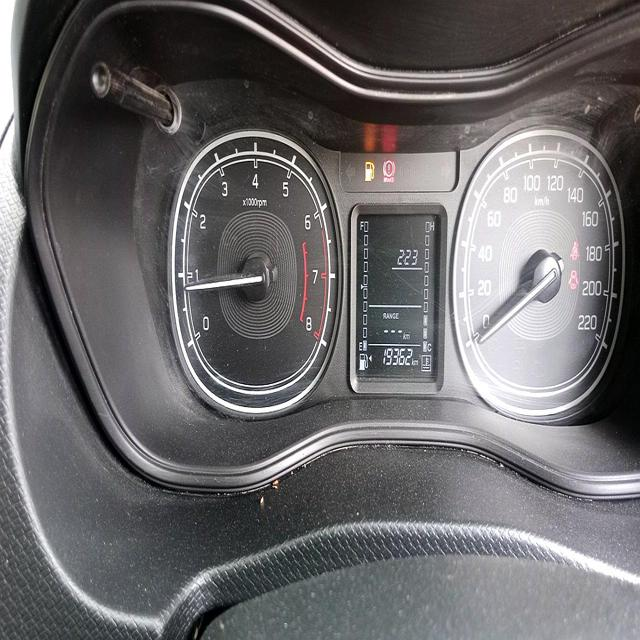odometer: (380, 344, 415, 368)
